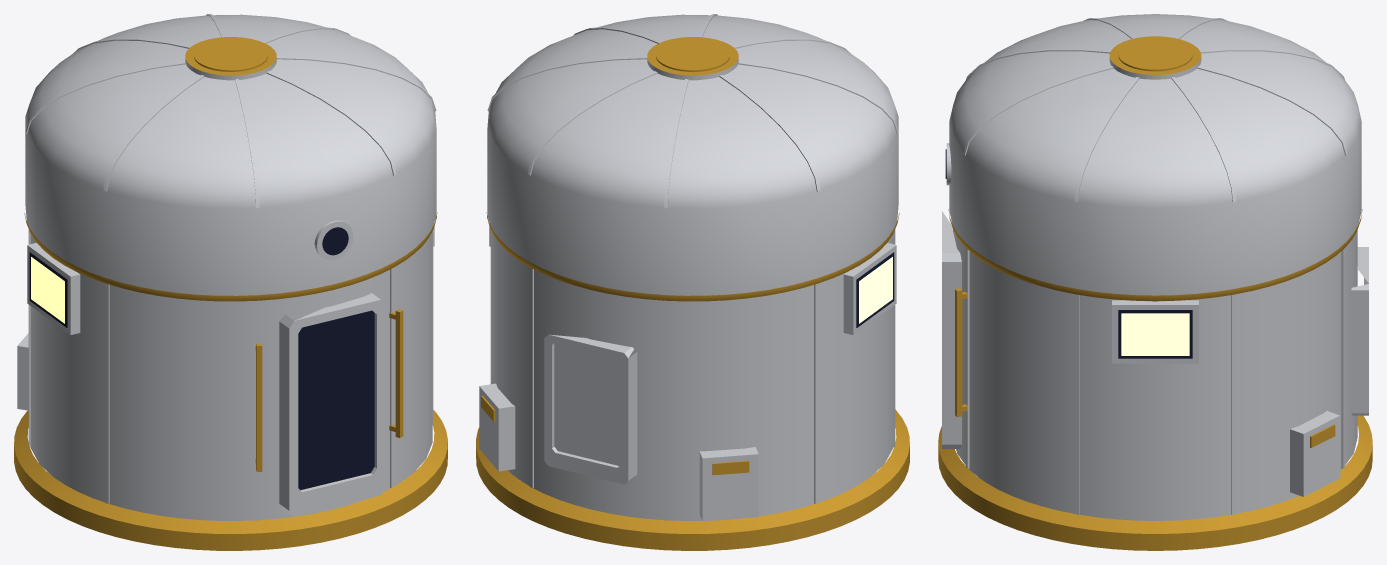
The model's file is hab.glb.
3 renders of one model, left to right at view 1: azimuth 30°, elevation 25°; view 2: azimuth 150°, elevation 25°; view 3: azimuth 270°, elevation 25°, orthographic.
Visible parts, largest first — view 1: hab_shell, glow_windows; view 2: hab_shell, glow_windows; view 3: hab_shell, glow_windows.
Boxes of the visible parts, x1,y1,x2,y2 form: hab_shell: (14, 14, 447, 550); glow_windows: (31, 257, 64, 323); hab_shell: (476, 14, 909, 550); glow_windows: (859, 257, 892, 323); hab_shell: (938, 14, 1372, 550); glow_windows: (1121, 313, 1189, 355).
Bounding box in the file's own units: 3.5 × 3.6 × 3.5.
